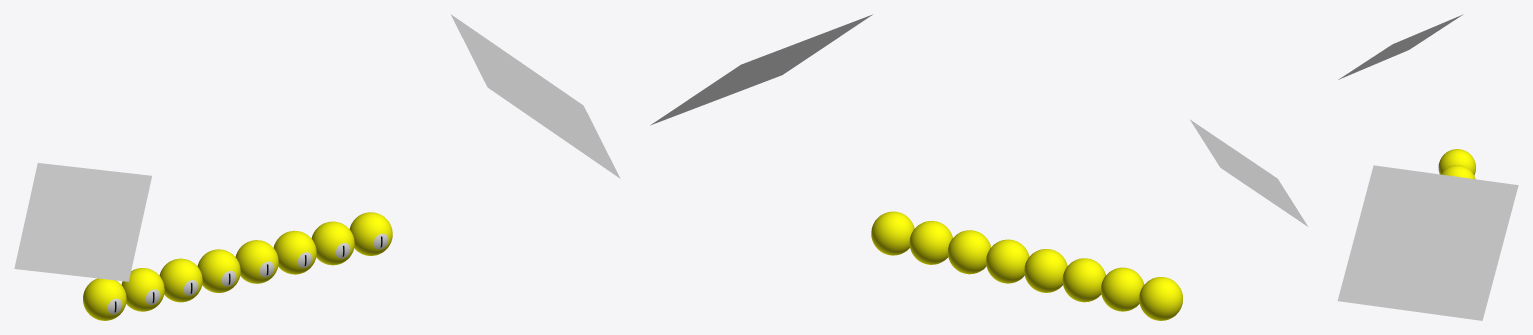
File: pool.dae
3 views of the same model, side by side, from view 1: azimuth 30°, elevation 25°; view 2: azimuth 150°, elevation 25°; view 3: azimuth 270°, elevation 25° (orthographic). The views are drawn at different scales.
Parts seen in each view (by area): view 1: Plane, Plane_002, Sphere, Sphere_007, Sphere_003, Sphere_002, Sphere_006, Sphere_004, Sphere_005, Sphere_001; view 2: Plane_002, Plane, Sphere, Sphere_007, Sphere_002, Sphere_003, Sphere_005, Sphere_001, Sphere_006, Sphere_004; view 3: Plane_002, Plane, Sphere, Sphere_001.
Part boxes in pixels (x1,y1,x2,y2): Plane: [14, 163, 151, 281]; Plane_002: [451, 14, 620, 178]; Sphere: [83, 278, 126, 320]; Sphere_007: [349, 212, 392, 255]; Sphere_003: [197, 249, 240, 292]; Sphere_002: [159, 258, 202, 302]; Sphere_006: [235, 240, 278, 283]; Sphere_004: [311, 221, 354, 265]; Sphere_005: [273, 230, 316, 274]; Sphere_001: [121, 268, 164, 311]; Plane_002: [650, 14, 872, 125]; Plane: [1190, 119, 1307, 226]; Sphere: [1139, 277, 1182, 320]; Sphere_007: [871, 211, 914, 255]; Sphere_002: [1062, 258, 1105, 302]; Sphere_003: [1024, 249, 1067, 292]; Sphere_005: [947, 230, 991, 274]; Sphere_001: [1101, 267, 1144, 311]; Sphere_006: [986, 239, 1029, 283]; Sphere_004: [909, 221, 952, 264]; Plane_002: [1337, 165, 1518, 320]; Plane: [1338, 14, 1463, 79]; Sphere: [1438, 149, 1475, 175]; Sphere_001: [1441, 165, 1475, 179].
Size of what is drawn, in the model's own units: 32.21 by 9.63 by 9.34.
